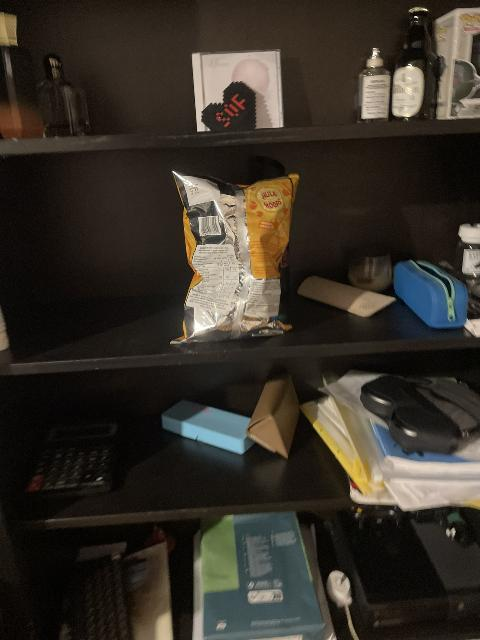Chio Hula Hoops Cheese 70g: (168, 170, 299, 343)
